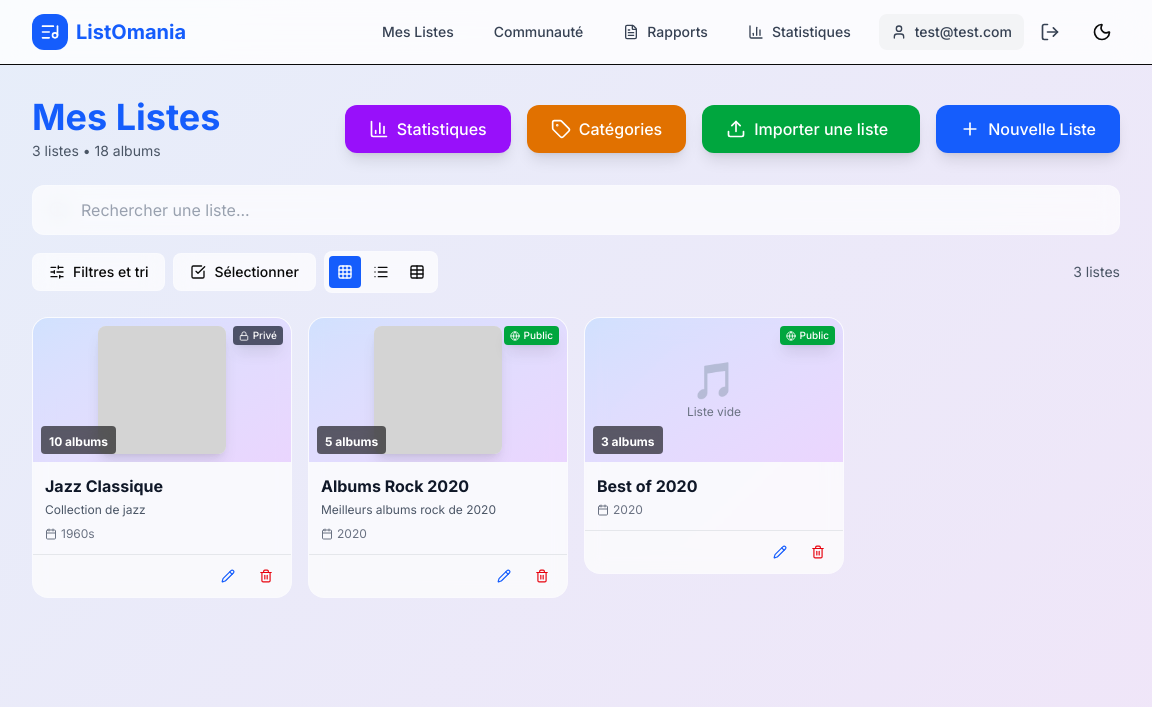
Test: Lists - Filtres et tri › ouvre et ferme le panneau de filtres
Expected: the text "Filtres et tri" is shown, [73,262,148,282]
Expected: the text "Trier par" is not shown
Click the button "Filtres et tri": coordinates (99, 272) [32,253,166,291]
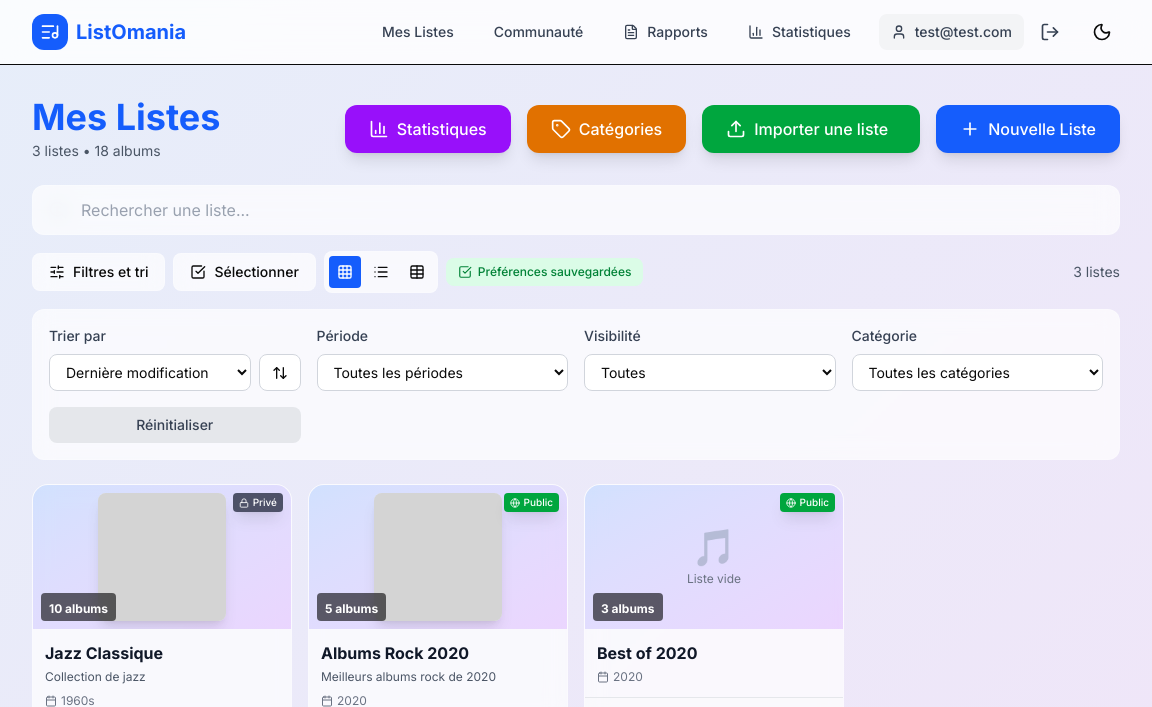
Expected: the text "Trier par" is shown, [49,327,106,344]
